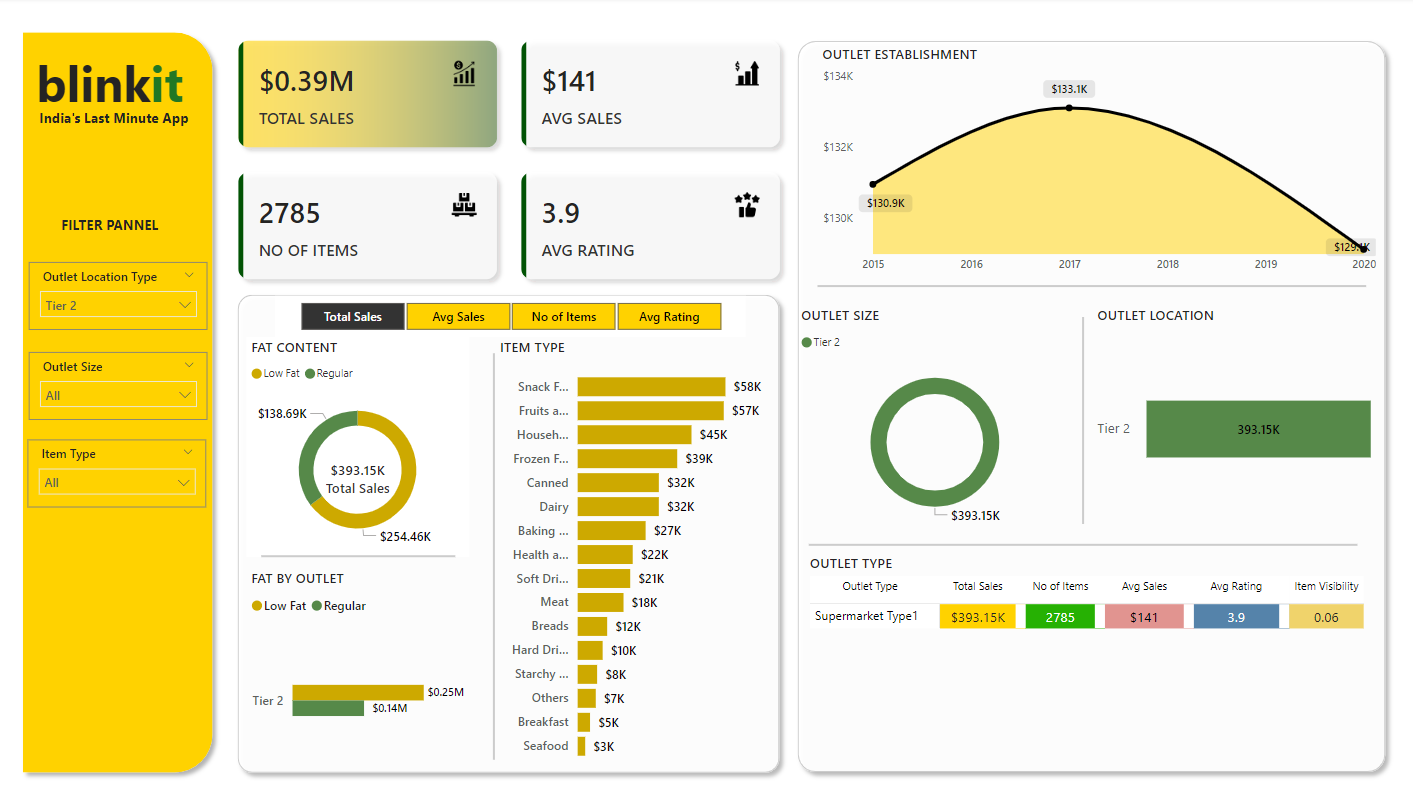

The dashboard page shown, as its layout file describes it:
{"tool":"powerbi","page":{"name":"Page 1","canvas":[1400,800],"ordinal":0},"visuals":[{"type":"shape","box":[13.5,25.5,205.6,750.4],"z":0},{"type":"textbox","box":[31.5,46.5,171.1,90.1],"z":1000},{"type":"textbox","box":[27,105.1,171.1,31.5],"z":2000},{"type":"cardVisual","fields":{"Data":["BlinkIT Grocery Data.Total Sales","BlinkIT Grocery Data.Avg Sales","BlinkIT Grocery Data.No of Items","BlinkIT Grocery Data.Avg Rating"]},"box":[219.1,25.5,570.3,270.2],"z":3000},{"type":"shape","box":[226.6,285.2,553.8,490.8],"z":4000},{"type":"donutChart","title":"FAT CONTENT","fields":{"Y":["BlinkIT Grocery Data.Total Sales"],"Category":["BlinkIT Grocery Data.Item Fat Content"]},"box":[243.1,336.2,220.6,217.6],"z":5000},{"type":"slicer","fields":{"Values":["Metrics.Metrics"]},"box":[271.7,295.7,465.3,40.5],"z":6000},{"type":"cardVisual","fields":{"Data":["BlinkIT Grocery Data.Total Sales"]},"box":[303.2,441.3,102.1,64.5],"z":7000},{"type":"clusteredBarChart","title":"FAT BY OUTLET","fields":{"Y":["BlinkIT Grocery Data.Total Sales"],"Category":["BlinkIT Grocery Data.Outlet Location Type"],"Series":["BlinkIT Grocery Data.Item Fat Content"]},"box":[243.1,565.8,220.6,210.1],"z":8000},{"type":"shape","box":[258.1,532.8,192.1,40.5],"z":9000},{"type":"shape","box":[474.3,352.7,30,402.2],"z":10000},{"type":"barChart","title":"ITEM TYPE","fields":{"Y":["BlinkIT Grocery Data.Total Sales"],"Category":["BlinkIT Grocery Data.Item Type"]},"box":[489.3,336.2,274.7,429.2],"z":11000},{"type":"shape","box":[780.2,34.9,599.2,741.3],"z":12000},{"type":"lineChart","title":"OUTLET ESTABLISHMENT","fields":{"Y":["BlinkIT Grocery Data.Total Sales"],"Category":["BlinkIT Grocery Data.Outlet Establishment Year"]},"box":[808.3,46.9,557.6,234.6],"z":13000},{"type":"shape","box":[808.3,265.4,542.9,40.2],"z":14000},{"type":"donutChart","title":"OUTLET SIZE","fields":{"Y":["BlinkIT Grocery Data.Total Sales"],"Category":["BlinkIT Grocery Data.Outlet Location Type"]},"box":[788.2,305.6,274.8,225.2],"z":15000},{"type":"shape","box":[1056.3,316.4,30.8,205.1],"z":16000},{"type":"funnel","title":"OUTLET LOCATION","fields":{"Y":["Sum(BlinkIT Grocery Data.Sales)"],"Category":["BlinkIT Grocery Data.Outlet Location Type"]},"box":[1080.4,305.6,285.5,225.2],"z":17000},{"type":"shape","box":[800.3,521.5,542.9,40.2],"z":18000},{"type":"pivotTable","title":"OUTLET TYPE","fields":{"Rows":["BlinkIT Grocery Data.Outlet Type"],"Values":["BlinkIT Grocery Data.Total Sales","BlinkIT Grocery Data.No of Items","BlinkIT Grocery Data.Avg Sales","BlinkIT Grocery Data.Avg Rating","Avg(BlinkIT Grocery Data.Item Visibility)"]},"box":[796.3,550.9,569.7,214.5],"z":19000},{"type":"slicer","fields":{"Values":["BlinkIT Grocery Data.Outlet Location Type"]},"box":[28.2,262.7,176.9,67],"z":20000},{"type":"slicer","fields":{"Values":["BlinkIT Grocery Data.Outlet Size"]},"box":[28.2,351.2,176.9,67],"z":21000},{"type":"slicer","fields":{"Values":["BlinkIT Grocery Data.Item Type"]},"box":[26.8,438.3,176.9,67],"z":22000},{"type":"textbox","box":[55.5,211.6,118.6,36],"z":23000}]}

Visuals, with their boxes in screenshot pixels (x1, y1, x2, y2), scaled from the page's 1400x800 canvas onto the 1413x801 screenshot:
shape: box=[14, 26, 221, 777]
textbox: box=[32, 47, 204, 137]
textbox: box=[27, 105, 200, 137]
cardVisual - BlinkIT Grocery Data.Total Sales x BlinkIT Grocery Data.Avg Sales: box=[221, 26, 797, 296]
shape: box=[229, 286, 788, 777]
"FAT CONTENT" donutChart: box=[245, 337, 468, 554]
slicer - Metrics.Metrics: box=[274, 296, 744, 337]
cardVisual - BlinkIT Grocery Data.Total Sales: box=[306, 442, 409, 506]
"FAT BY OUTLET" clusteredBarChart: box=[245, 567, 468, 777]
shape: box=[260, 533, 454, 574]
shape: box=[479, 353, 509, 756]
"ITEM TYPE" barChart: box=[494, 337, 771, 766]
shape: box=[787, 35, 1392, 777]
"OUTLET ESTABLISHMENT" lineChart: box=[816, 47, 1379, 282]
shape: box=[816, 266, 1364, 306]
"OUTLET SIZE" donutChart: box=[796, 306, 1073, 531]
shape: box=[1066, 317, 1097, 522]
"OUTLET LOCATION" funnel: box=[1090, 306, 1379, 531]
shape: box=[808, 522, 1356, 562]
"OUTLET TYPE" pivotTable: box=[804, 552, 1379, 766]
slicer - BlinkIT Grocery Data.Outlet Location Type: box=[28, 263, 207, 330]
slicer - BlinkIT Grocery Data.Outlet Size: box=[28, 352, 207, 419]
slicer - BlinkIT Grocery Data.Item Type: box=[27, 439, 206, 506]
textbox: box=[56, 212, 176, 248]
